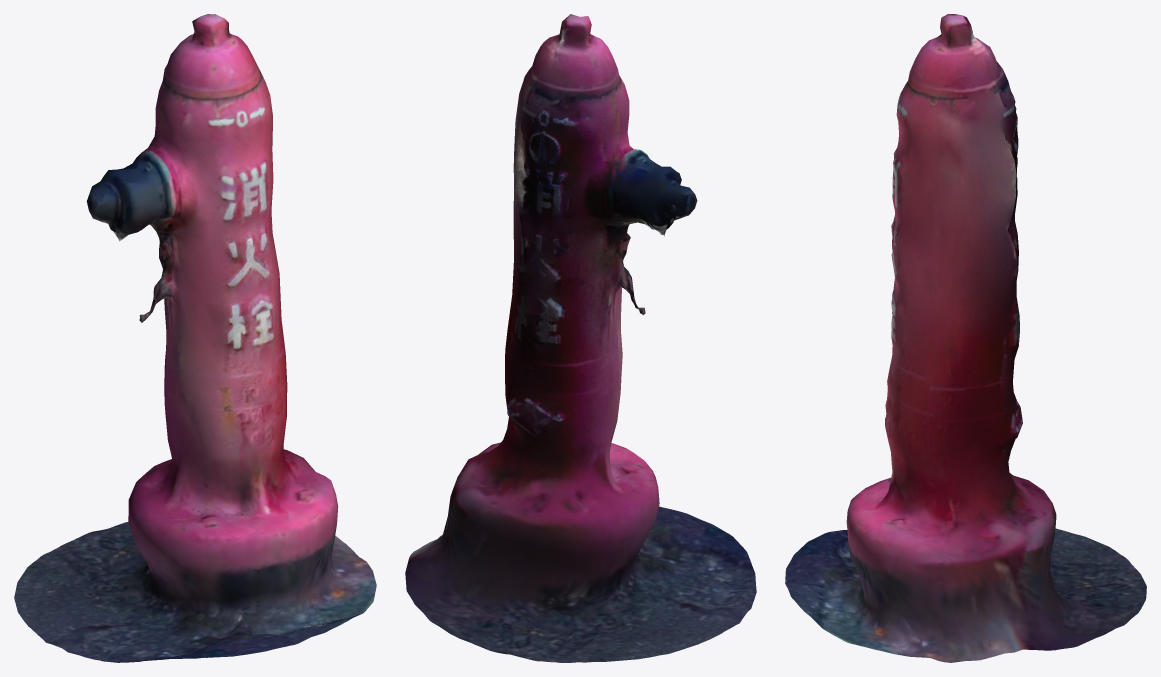
File: firehydrant-real1.glb
The picture shows the model from 3 angles, left to right: view 1: azimuth 30°, elevation 25°; view 2: azimuth 150°, elevation 25°; view 3: azimuth 270°, elevation 25°; orthographic projection. The views are drawn at different scales.
Visible parts, largest first — view 1: baked_mesh; view 2: baked_mesh; view 3: baked_mesh.
Part boxes in pixels (box(x1,y1,x2,y2)): baked_mesh: box(14, 14, 376, 662); baked_mesh: box(405, 14, 756, 662); baked_mesh: box(785, 14, 1146, 662).
Bounding box in the file's own units: 0.2056 × 0.3667 × 0.2059.
1 material, 1 textured.
